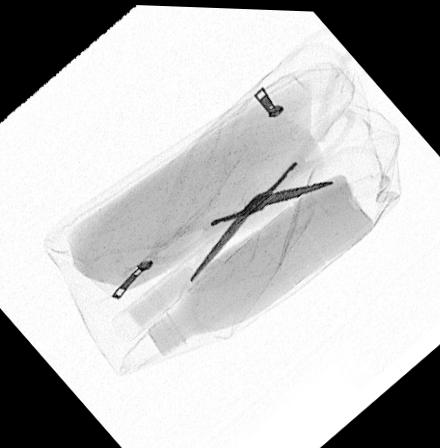Scissors: (148, 102, 357, 283)
